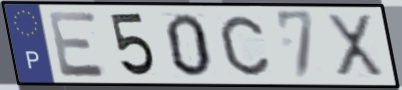0: (163, 12, 215, 79)
5: (108, 11, 156, 78)
7: (273, 8, 317, 84)
C: (217, 13, 273, 78)
E: (45, 10, 110, 79)
X: (324, 12, 388, 81)
